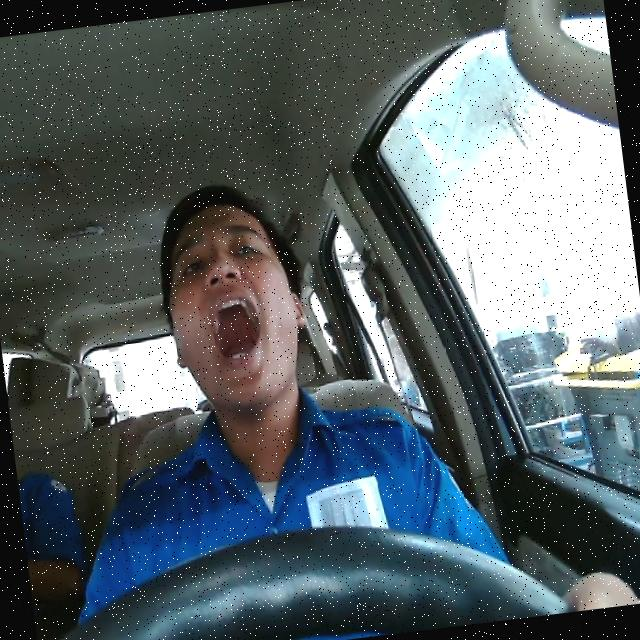yarning: (156, 195, 314, 423)
